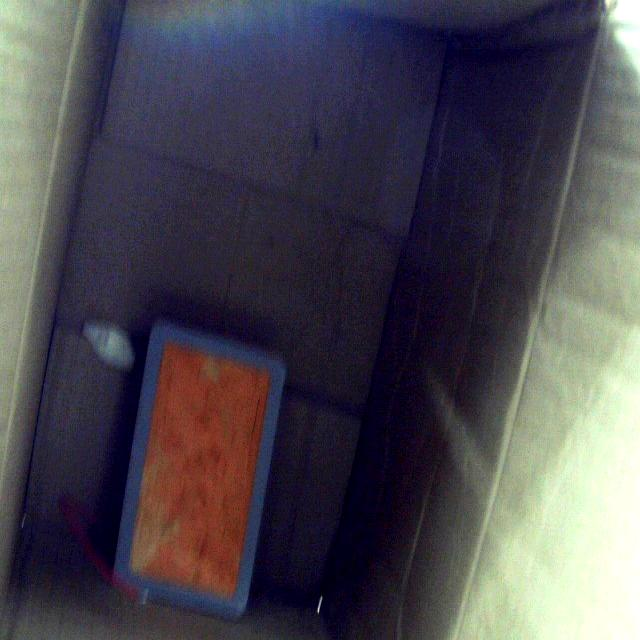block: (112, 320, 288, 622)
